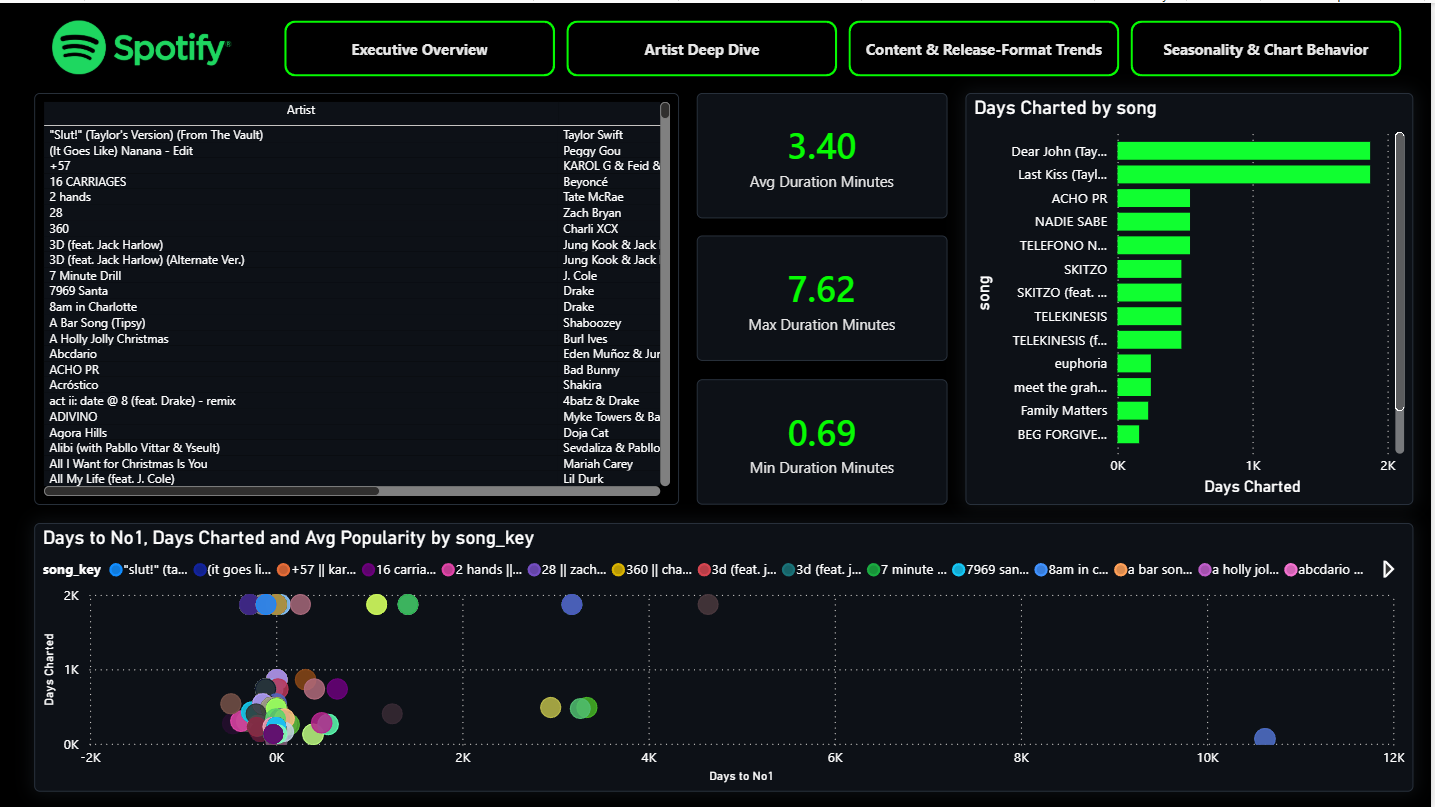

The page's visual inventory and layout, read from the dashboard file:
{"tool":"powerbi","page":{"name":"Song Lifecycle & Trends","canvas":[1280,720],"ordinal":3},"visuals":[{"type":"image","box":[32,16,192,48],"z":0},{"type":"tableEx","fields":{"Values":["dim_songs.song","dim_songs.artist","Measure.Peak Position","Measure.First Chart Date","Measure.Days Charted"]},"box":[32,80,576,368],"z":1000},{"type":"barChart","fields":{"Category":["dim_songs.song"],"Y":["Measure.Days Charted"]},"box":[864,80,400,368],"z":2000},{"type":"cardVisual","fields":{"Data":["Measure.Avg Duration Minutes"]},"box":[624,80,224,112],"z":3000},{"type":"cardVisual","fields":{"Data":["Measure.Max Duration Minutes"]},"box":[624,208,224,112],"z":4000},{"type":"cardVisual","fields":{"Data":["Measure.Min Duration Minutes"]},"box":[624,336,224,112],"z":5000},{"type":"scatterChart","fields":{"X":["Measure.Days to No1"],"Y":["Measure.Days Charted"],"Size":["Measure.Avg Popularity"],"Series":["dim_songs.song_key"]},"box":[32,464,1232,240],"z":6000},{"type":"pageNavigator","box":[256,16,1000,50],"z":7000}]}

Visuals, with their boxes in screenshot pixels (x1, y1, x2, y2), scaled from the page's 1280x720 canvas onto the 1435x807 screenshot:
image: 36/18/251/72
tableEx - dim_songs.song x dim_songs.artist: 36/90/682/502
barChart - dim_songs.song x Measure.Days Charted: 969/90/1417/502
cardVisual - Measure.Avg Duration Minutes: 700/90/951/215
cardVisual - Measure.Max Duration Minutes: 700/233/951/359
cardVisual - Measure.Min Duration Minutes: 700/377/951/502
scatterChart - Measure.Days to No1 x Measure.Days Charted: 36/520/1417/789
pageNavigator: 287/18/1408/74
